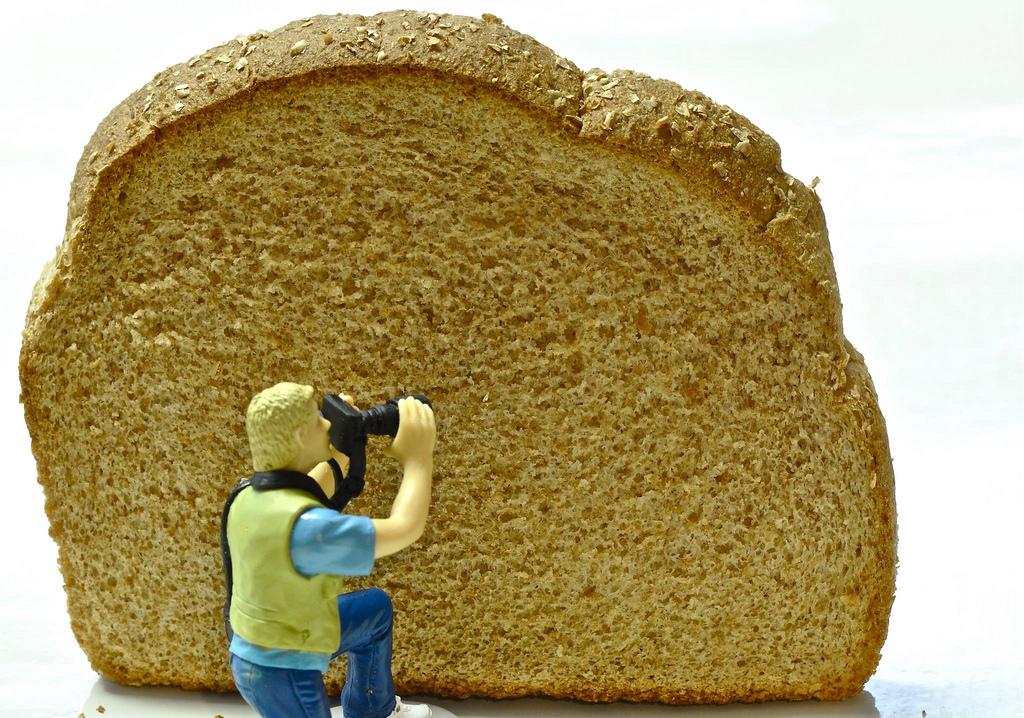slice of bread: (17, 6, 899, 706)
